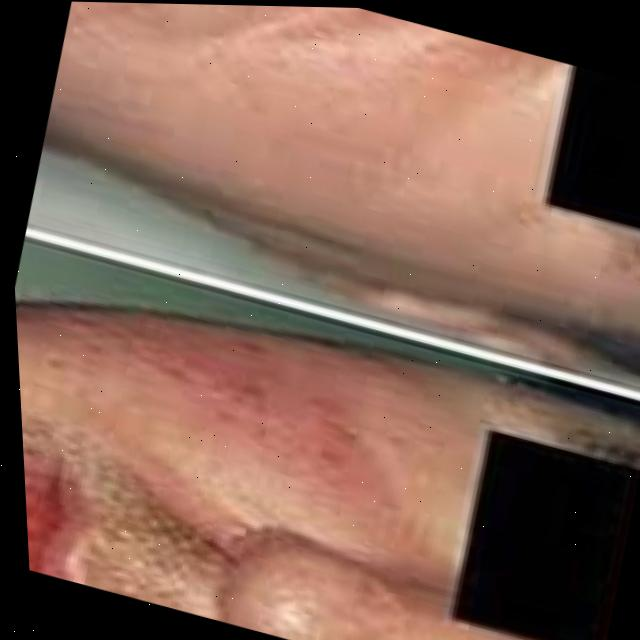Rosacea: (15, 287, 382, 493)
